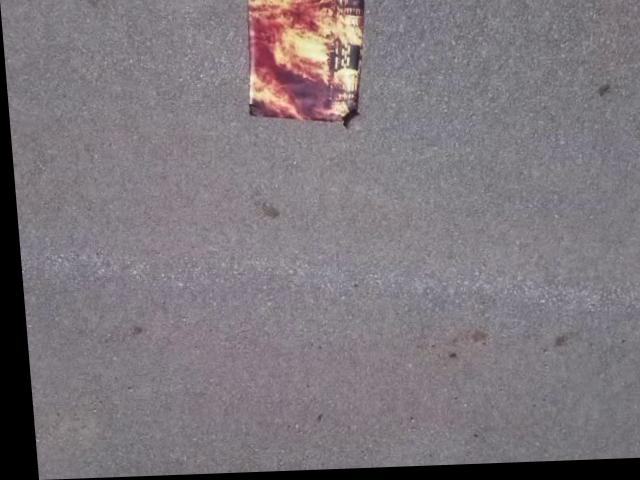fire-poster: (236, 0, 376, 135)
